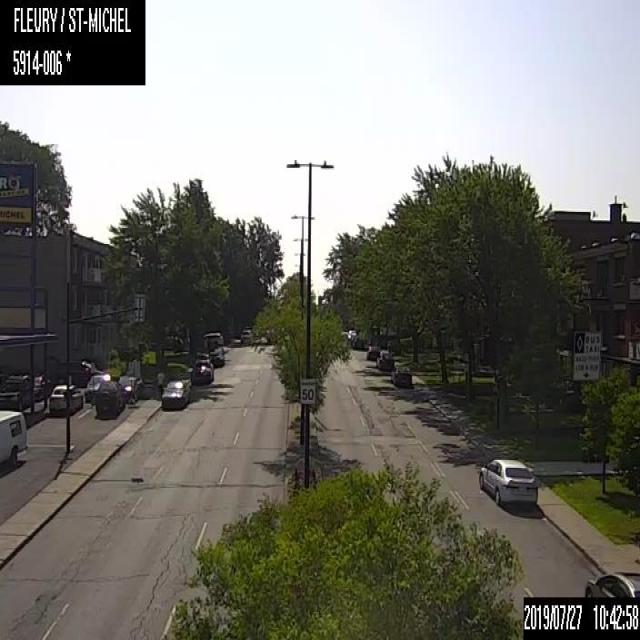vehicle: (478, 458, 538, 504), (0, 408, 28, 471), (582, 569, 639, 596), (0, 373, 32, 408), (94, 380, 126, 414), (48, 383, 83, 413), (160, 378, 188, 410), (84, 372, 110, 402), (31, 372, 52, 401), (190, 359, 213, 385), (390, 365, 411, 385), (376, 349, 394, 370), (203, 332, 223, 348), (210, 349, 223, 366), (365, 344, 379, 359), (240, 328, 252, 345), (352, 335, 364, 349), (347, 329, 355, 339)
